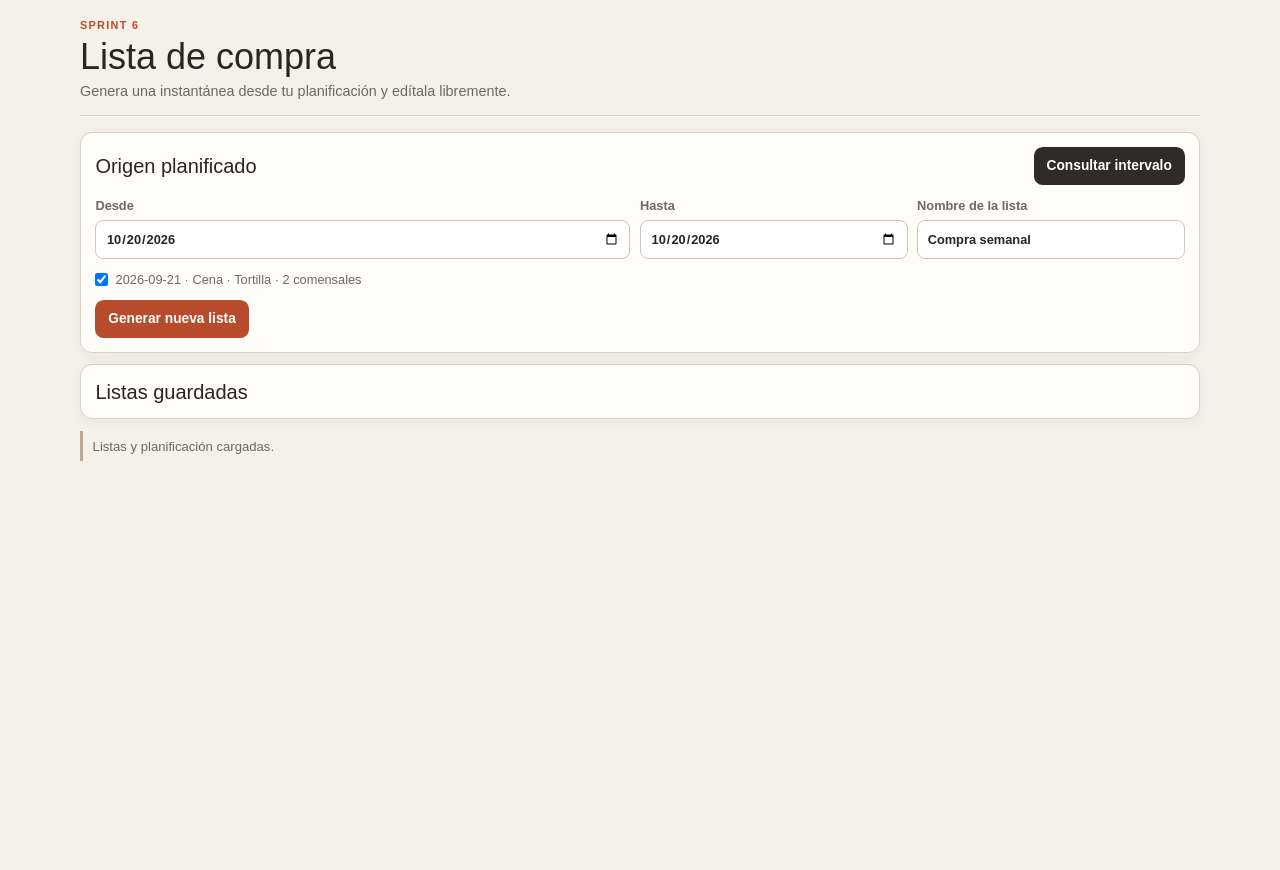
Scenario: ShoppingWorkspace › adds a free manual item without catalog selection
Expected: the checkbox labelled "2026-09-21 · Cena · Tortilla · 2 comensales" is shown, [95, 273, 108, 286]
Step 1. Click the button "Generar nueva lista" → [172, 319], box [95, 300, 249, 338]
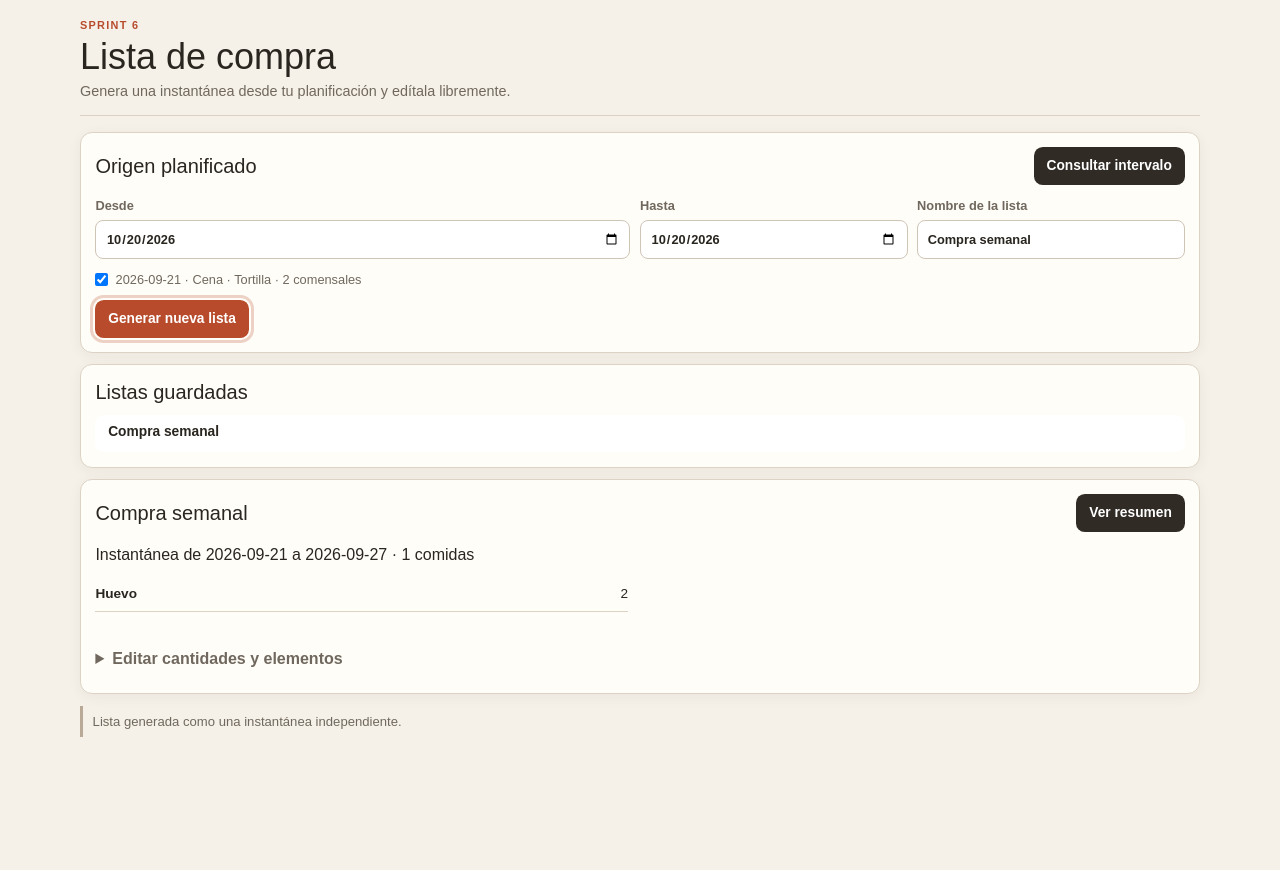
Step 2. Click the heading "Editar cantidades y elementos" → [227, 658], box [112, 650, 343, 667]
(page scrolled)
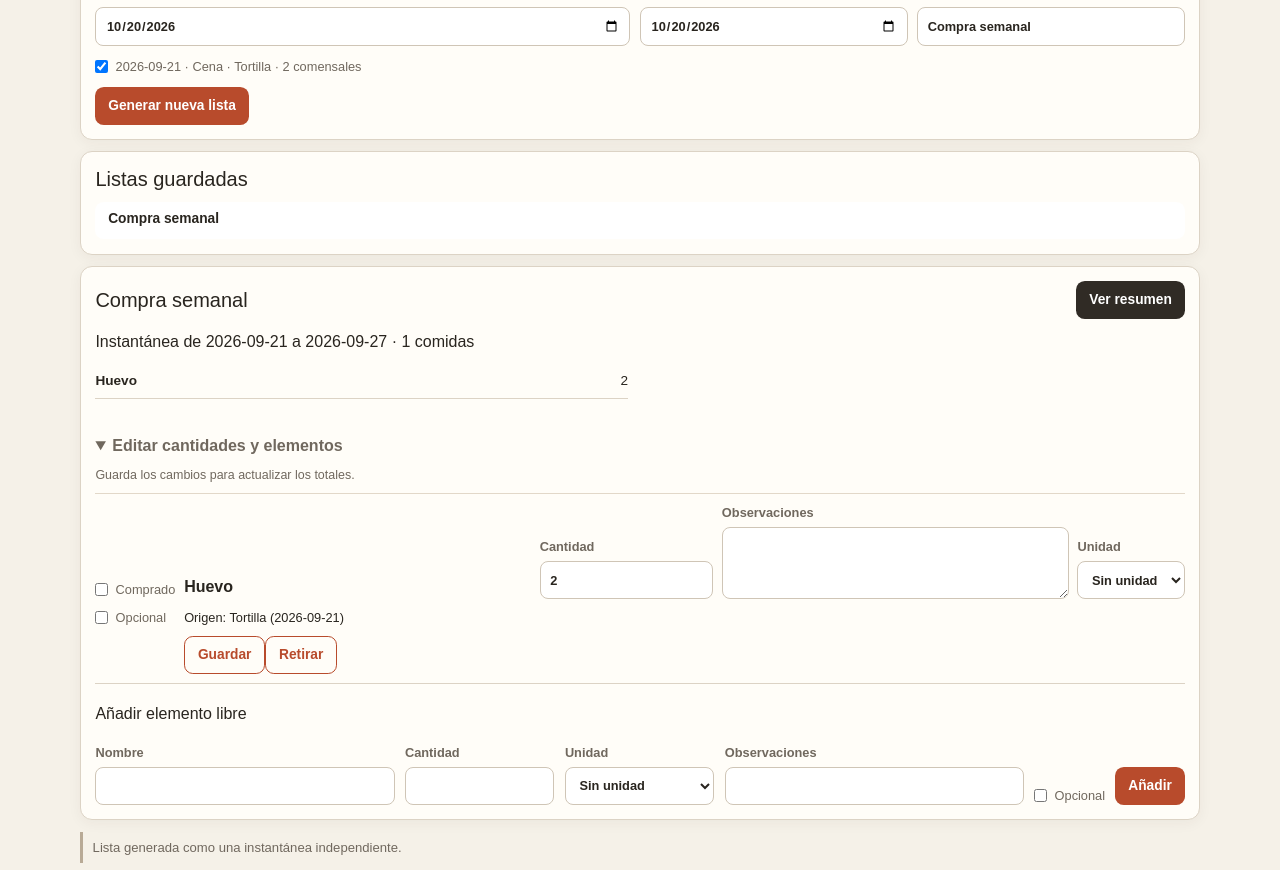
Step 3. Type "Papel de cocina" into the field labelled "Nombre" → [245, 786], box [95, 767, 394, 805]
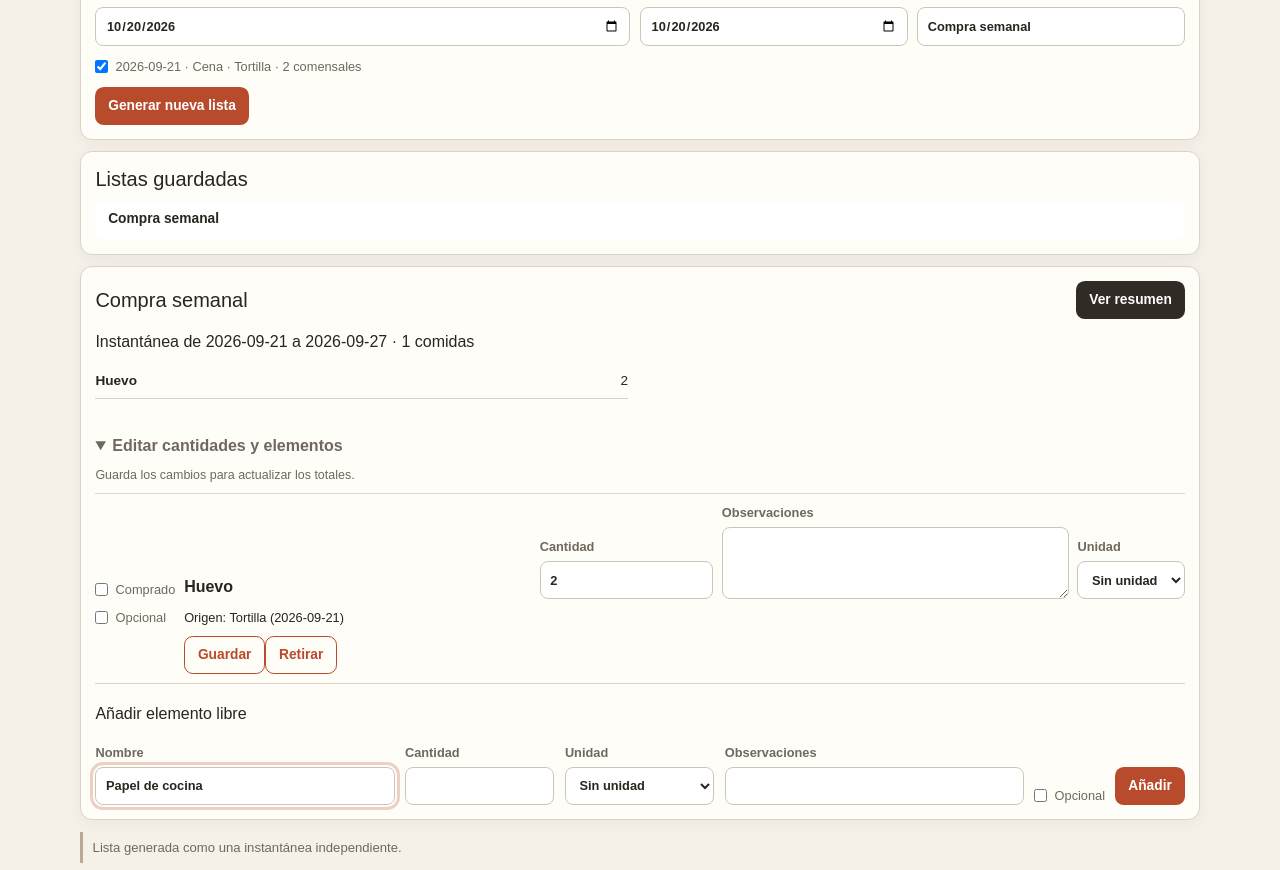
Step 4. Click the button "Añadir" → [1150, 786], box [1116, 768, 1185, 805]
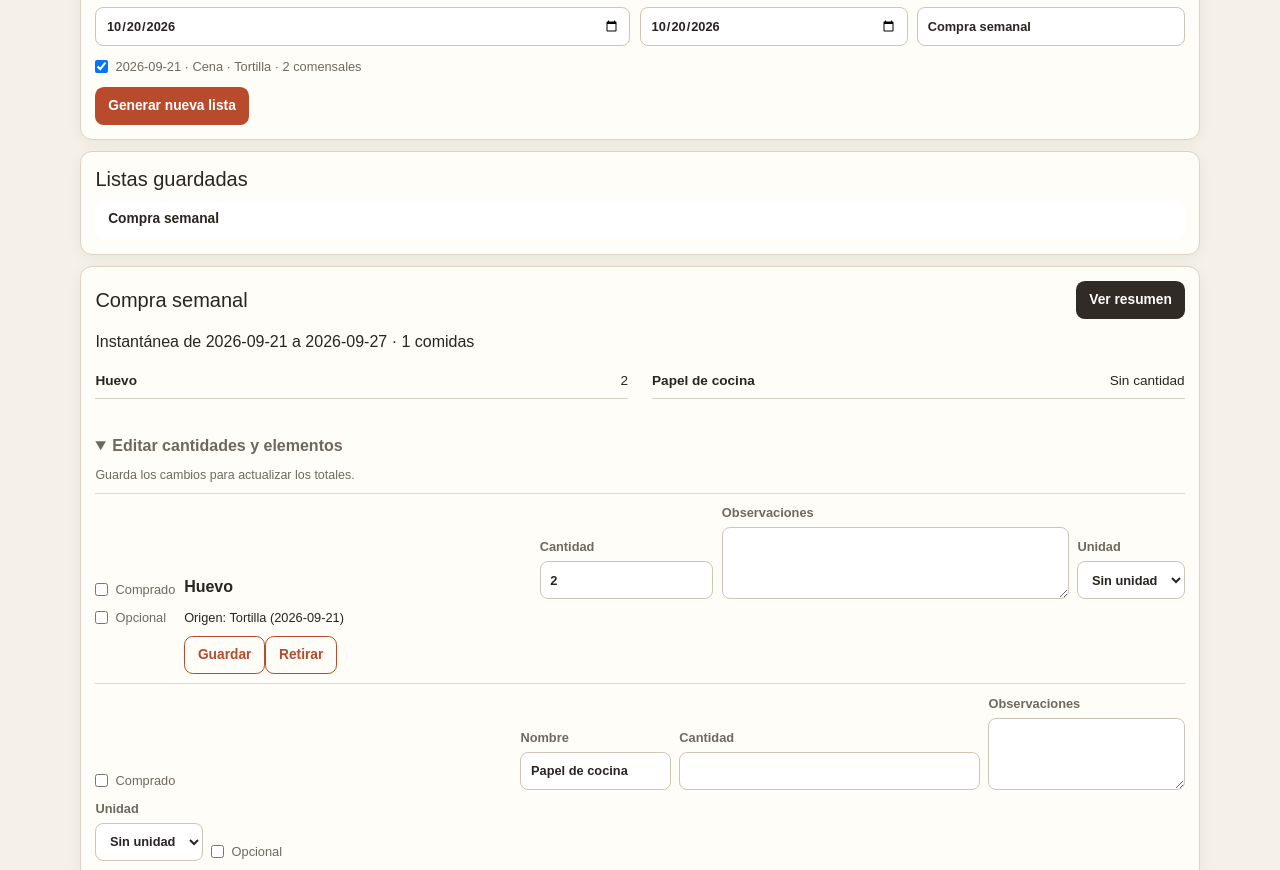
Now the field showing "Papel de cocina" is shown, box [520, 752, 670, 790]
